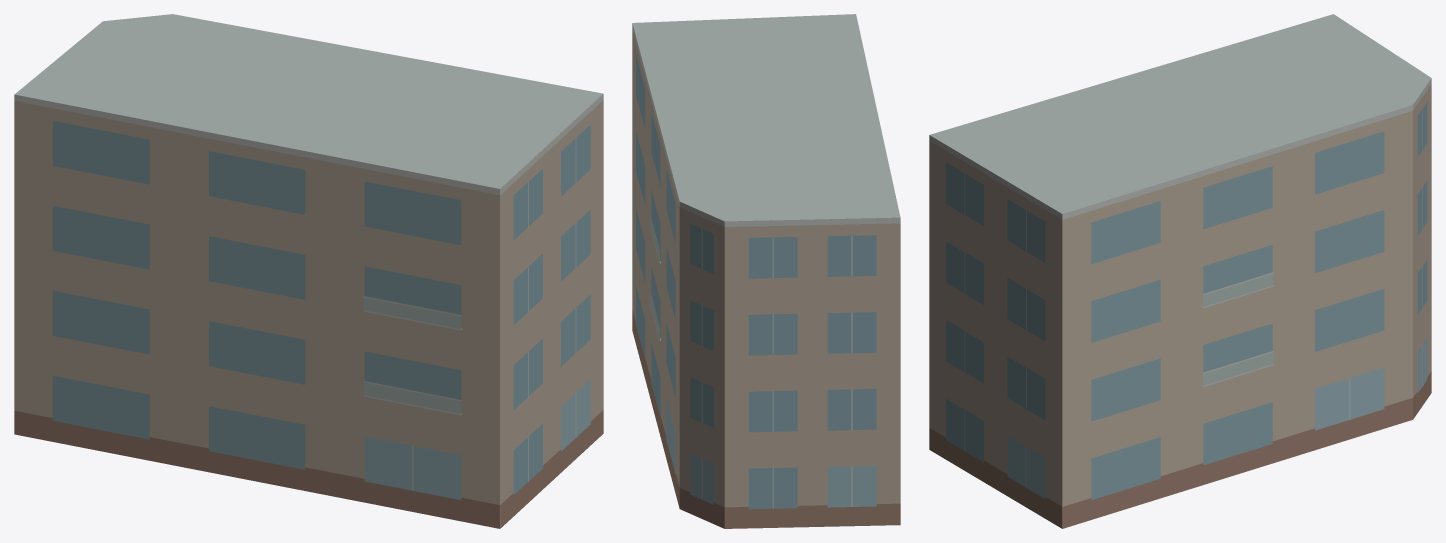
File: survey-upis-32802307.glb
3 views of the same model, side by side, from view 1: azimuth 30°, elevation 25°; view 2: azimuth 150°, elevation 25°; view 3: azimuth 270°, elevation 25° (orthographic). The views are drawn at different scales.
Visible parts, largest first — view 1: survey-upis-32802307.tmp; view 2: survey-upis-32802307.tmp; view 3: survey-upis-32802307.tmp.
Boxes of the visible parts, box(x1,y1,x2,y2) form: survey-upis-32802307.tmp: box(14, 14, 603, 528); survey-upis-32802307.tmp: box(632, 14, 900, 528); survey-upis-32802307.tmp: box(929, 14, 1431, 528).
Bounding box in the file's own units: 18.01 × 13.2 × 19.1.
